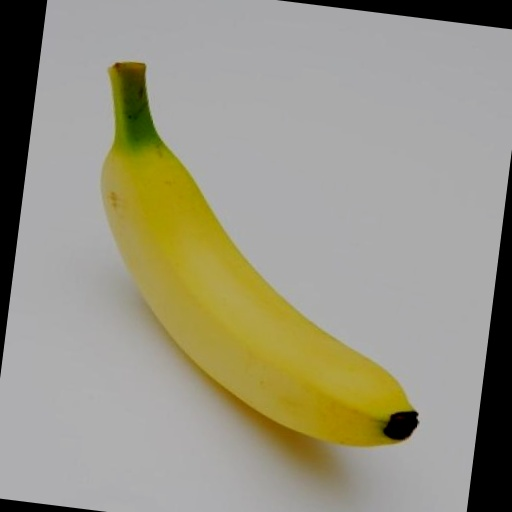fruit: (101, 63, 417, 445)
